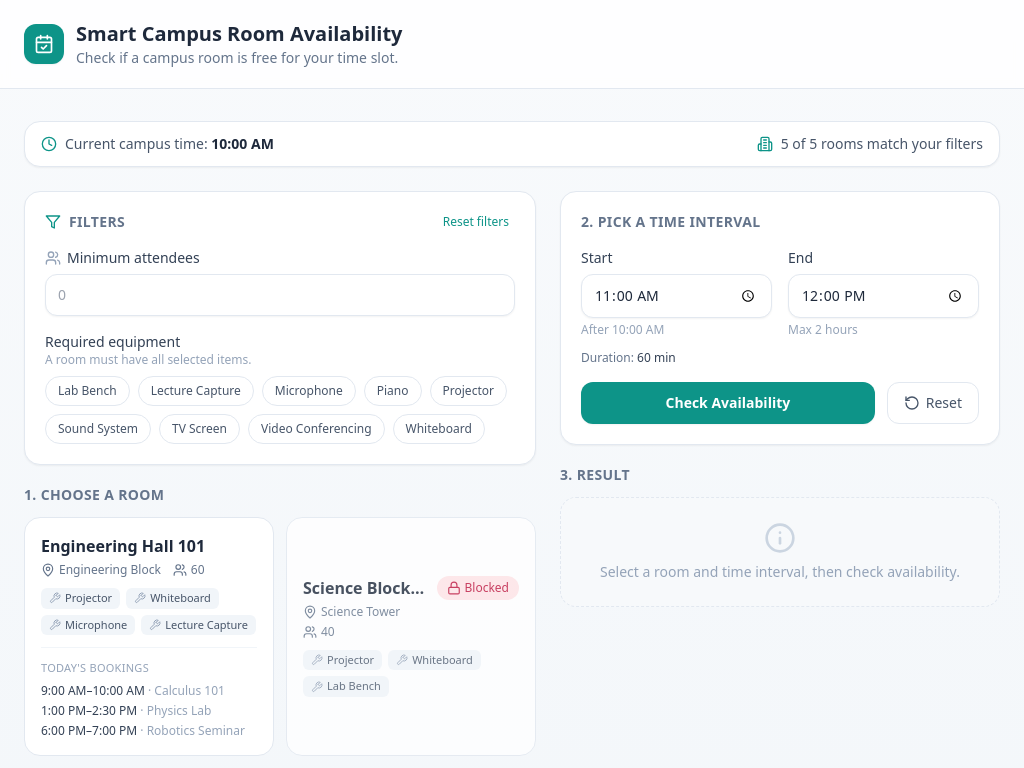
Test case: Integration: select room → check availability → result › Integration: select a blocked room → Unavailable result
Click the text "Science Block 204" at (364, 588), box [303,576,424,600]
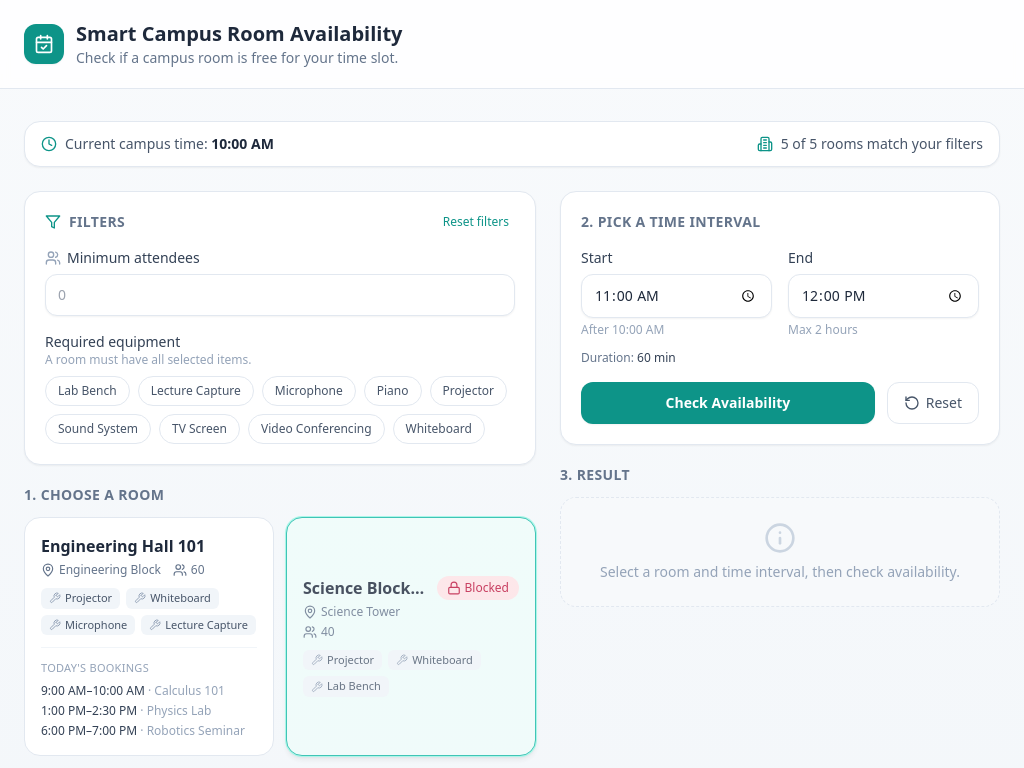
Click the button "Check Availability" at (728, 403), box [581,382,875,424]
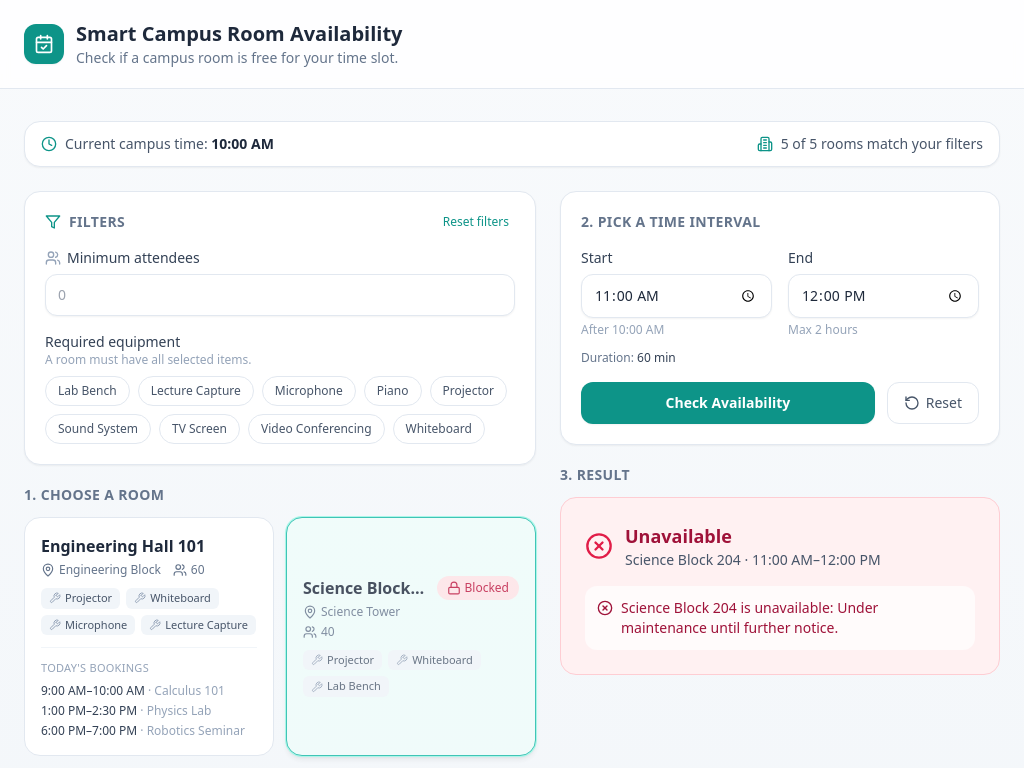
Expected: the text "Unavailable" is shown, [625,524,732,548]
